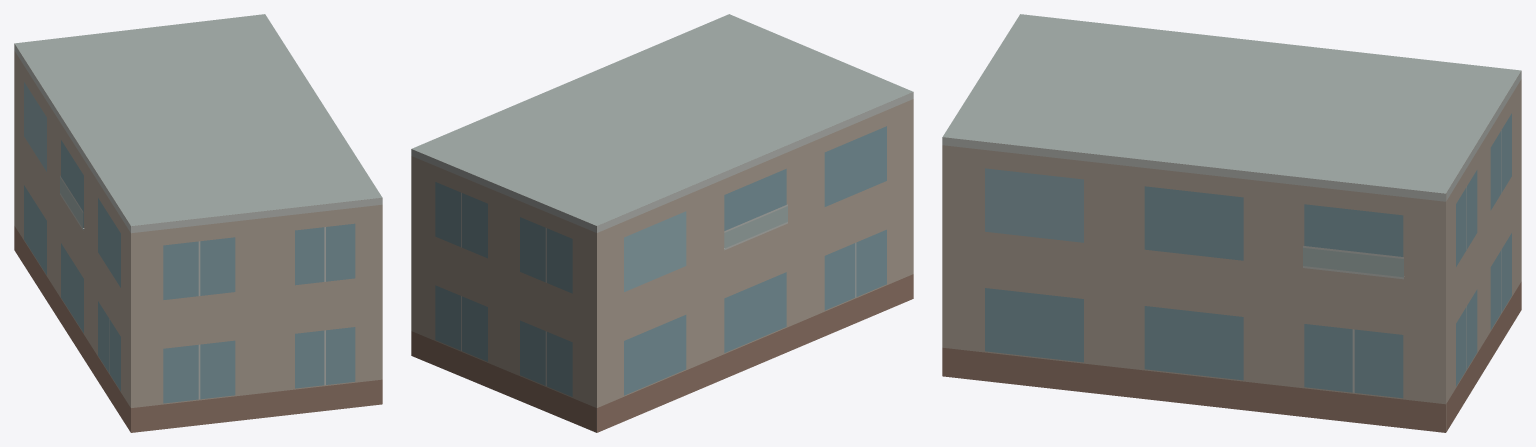
The model's file is survey-upis-32753263.glb.
3 renders of one model, left to right at view 1: azimuth 30°, elevation 25°; view 2: azimuth 150°, elevation 25°; view 3: azimuth 270°, elevation 25°, orthographic. The views are drawn at different scales.
Parts seen in each view (by area): view 1: survey-upis-32753263.tmp; view 2: survey-upis-32753263.tmp; view 3: survey-upis-32753263.tmp.
Boxes of the visible parts, x1,y1,x2,y2 form: survey-upis-32753263.tmp: [14, 14, 382, 432]; survey-upis-32753263.tmp: [411, 14, 913, 432]; survey-upis-32753263.tmp: [942, 14, 1521, 432].
Bounding box in the file's own units: 11.61 × 7.2 × 15.81.
